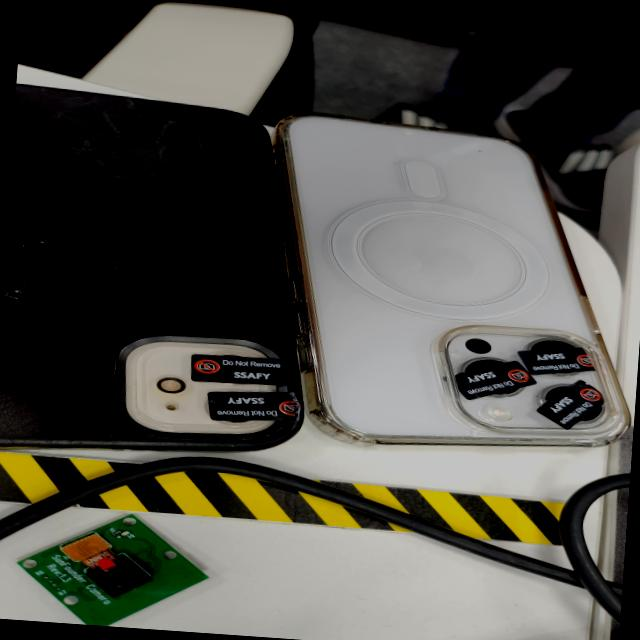phone: (255, 116, 640, 459), (0, 91, 318, 465)
sticker: (202, 382, 304, 426), (188, 347, 295, 388), (448, 354, 538, 402), (537, 374, 608, 431), (516, 340, 598, 378)
